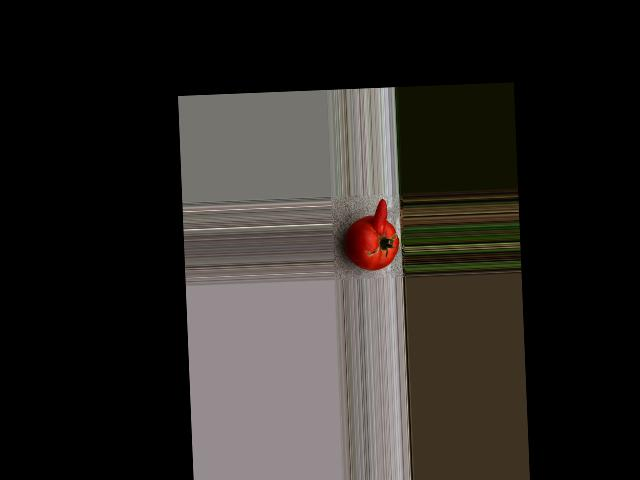tomato: (344, 214, 400, 272)
